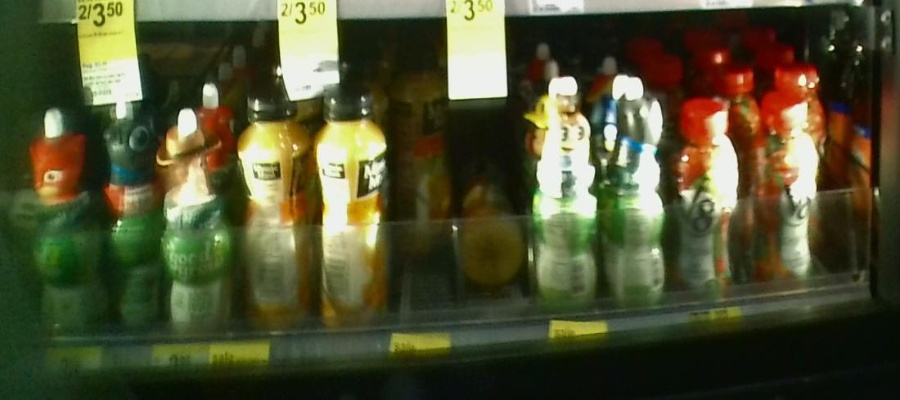bottle: (235, 89, 312, 328), (26, 103, 100, 331), (527, 77, 597, 308), (315, 85, 382, 323), (602, 75, 670, 306), (162, 109, 231, 331), (751, 84, 818, 284), (671, 91, 737, 294), (101, 109, 160, 328), (388, 51, 450, 257), (463, 183, 523, 283)
